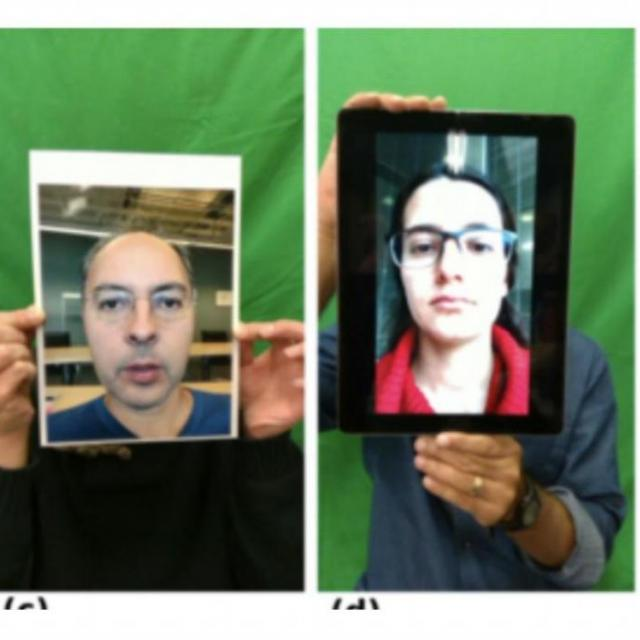device: (329, 98, 571, 441)
photo: (23, 144, 254, 456)
